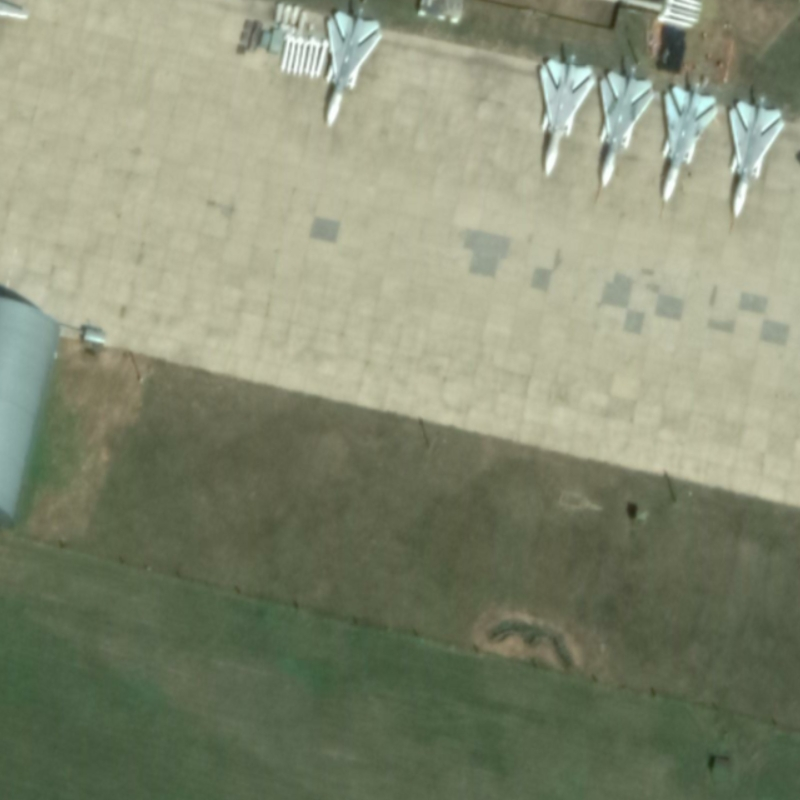A20: (725, 94, 787, 221), (659, 80, 721, 206), (596, 60, 656, 189), (536, 52, 596, 179), (323, 8, 384, 129)
